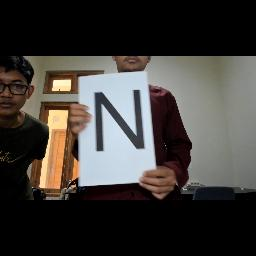n: (87, 85, 153, 161)
